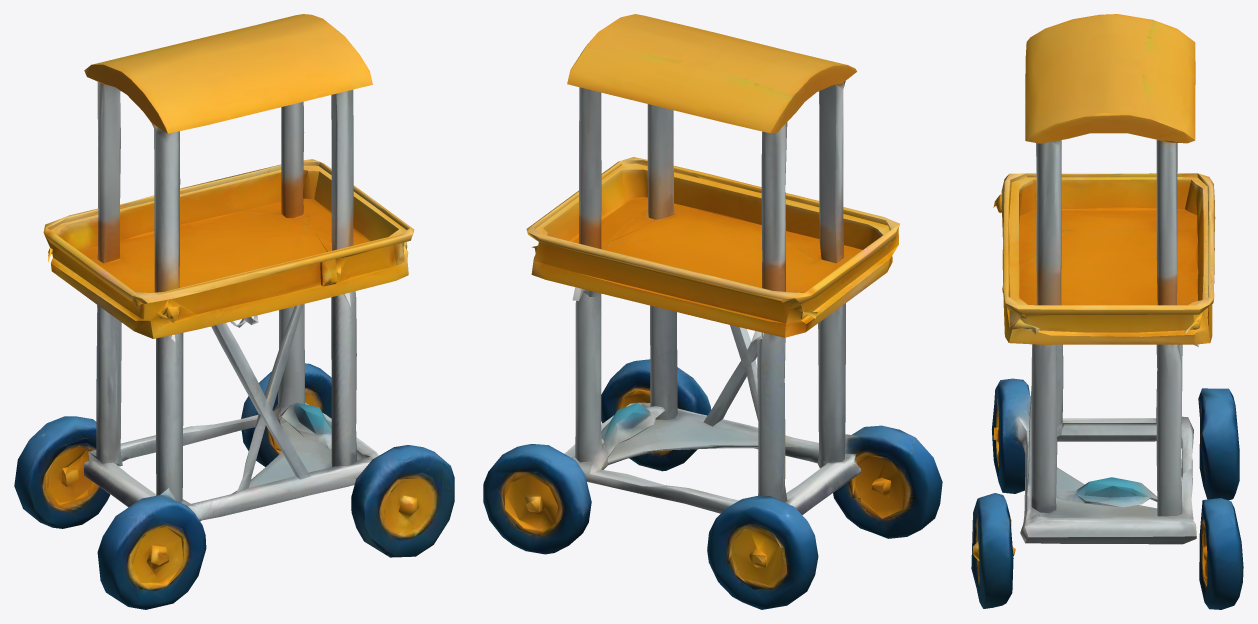
Rendered from m2ZiplineTrolley.glb.
The picture shows the model from 3 angles, left to right: view 1: azimuth 30°, elevation 25°; view 2: azimuth 150°, elevation 25°; view 3: azimuth 270°, elevation 25°; orthographic projection.
Parts seen in each view (by area): view 1: model; view 2: model; view 3: model.
Boxes of the visible parts, <box> form: model: <box>14,14,454,609</box>; model: <box>483,14,942,609</box>; model: <box>971,14,1243,609</box>.
Bounding box in the file's own units: 1.38 × 1.91 × 0.9676.
1 material, 1 textured.
